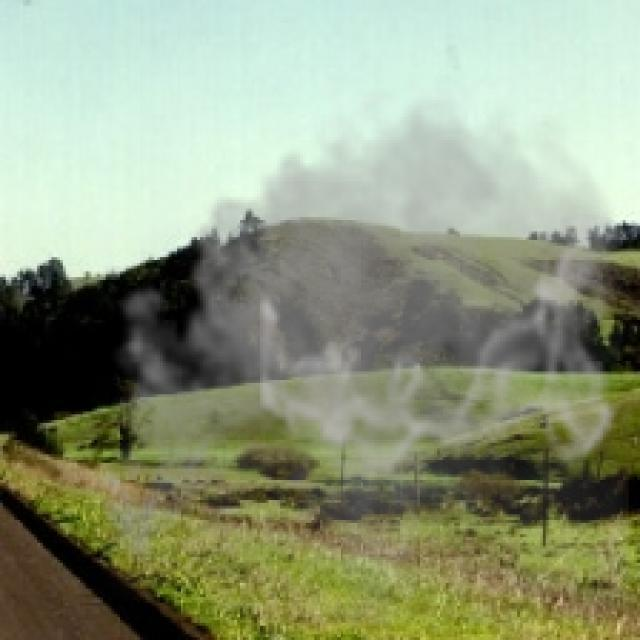Smoke: (82, 74, 628, 626)
